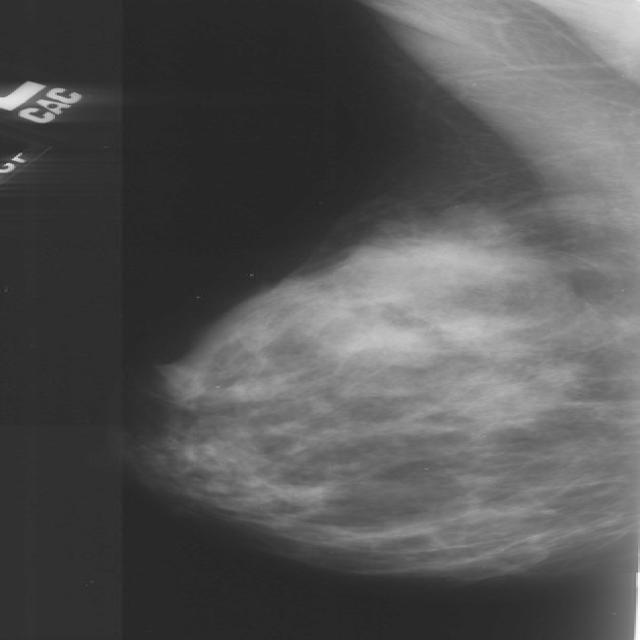tumour: (350, 237, 528, 294)
